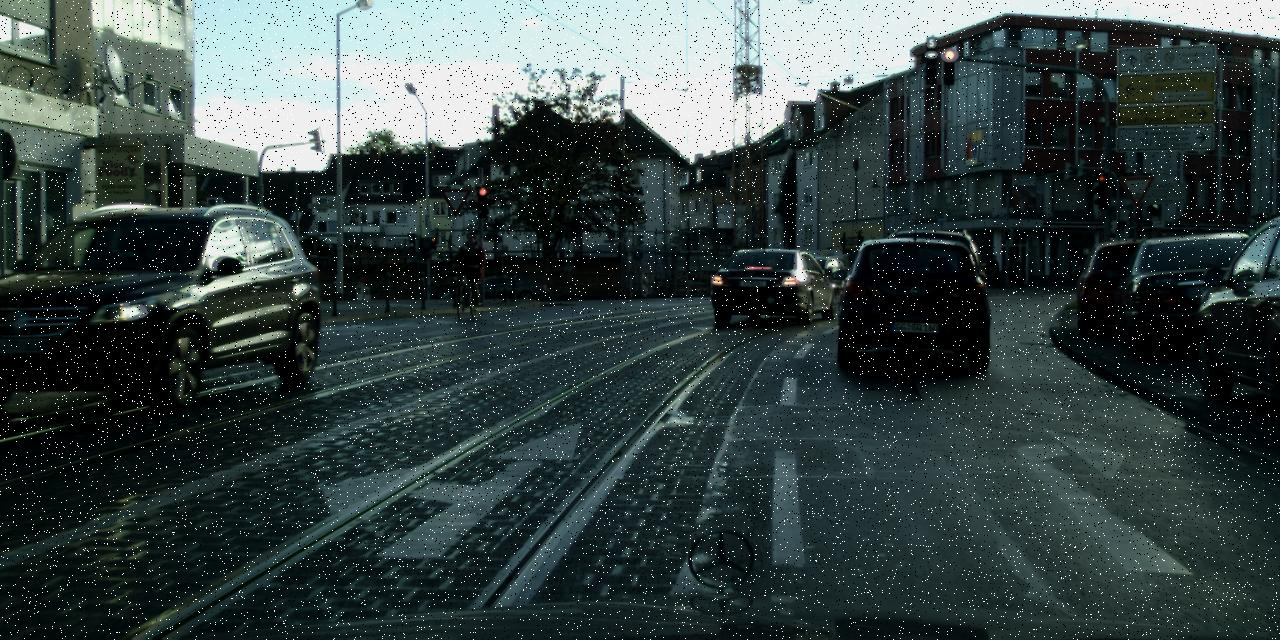ped: (453, 232, 484, 308), (988, 254, 1001, 287), (1010, 258, 1022, 287)
